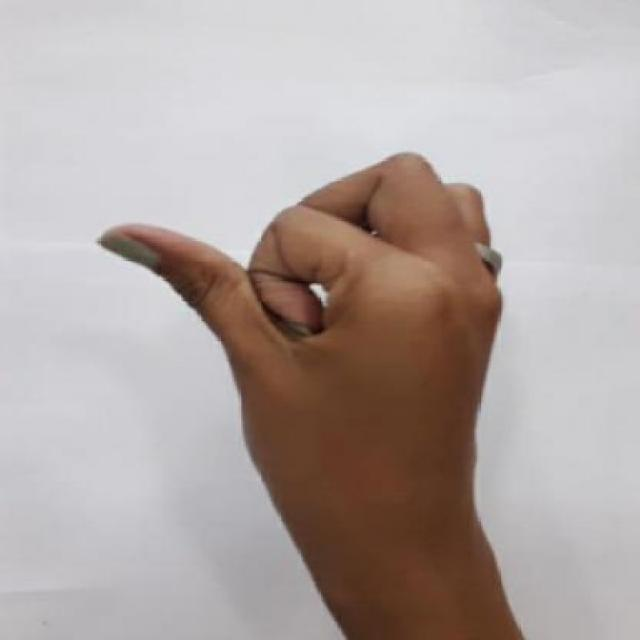without_gloves: (71, 131, 538, 598)
